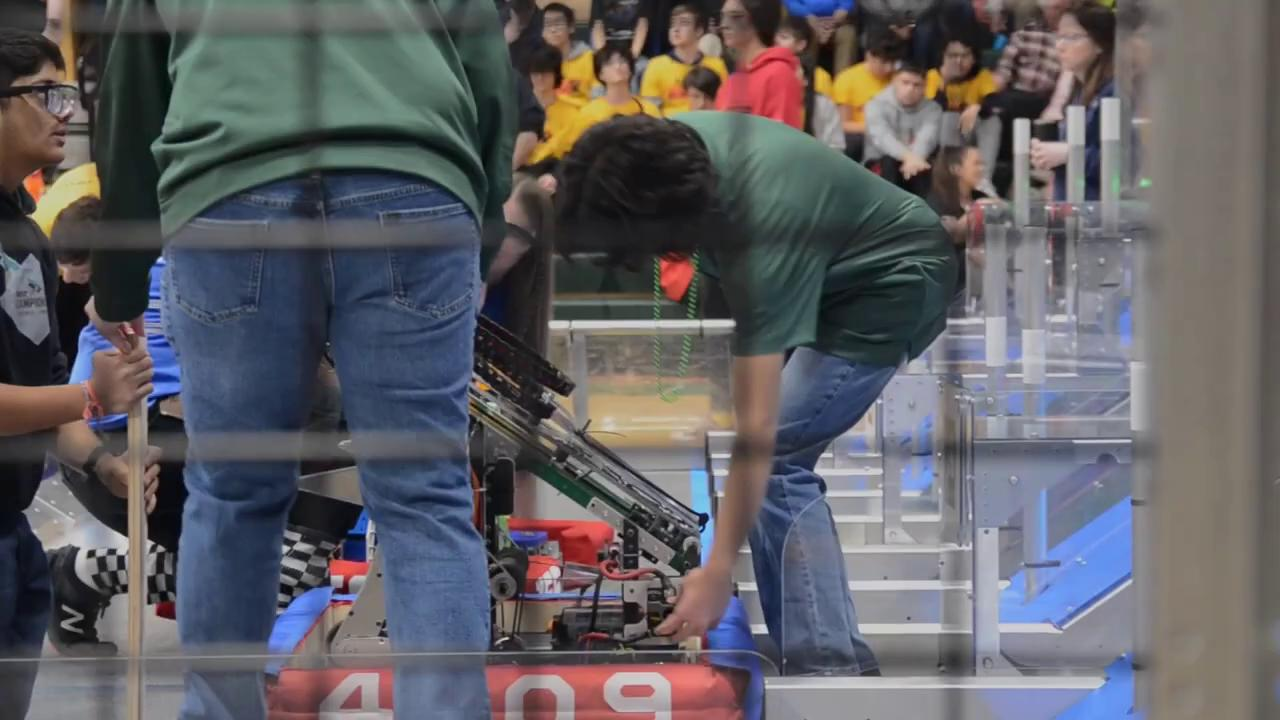robot: (249, 328, 802, 719)
